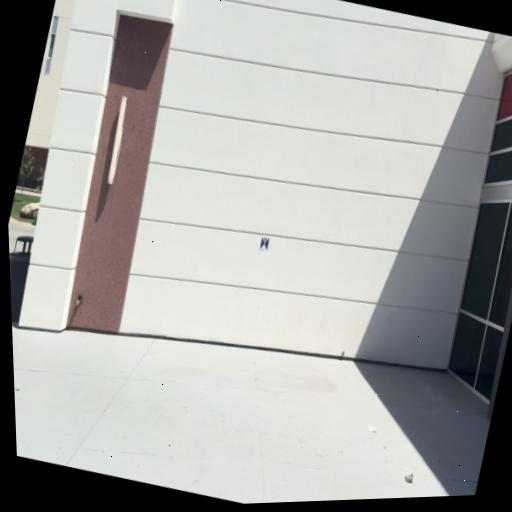target0: (260, 236, 269, 251)
